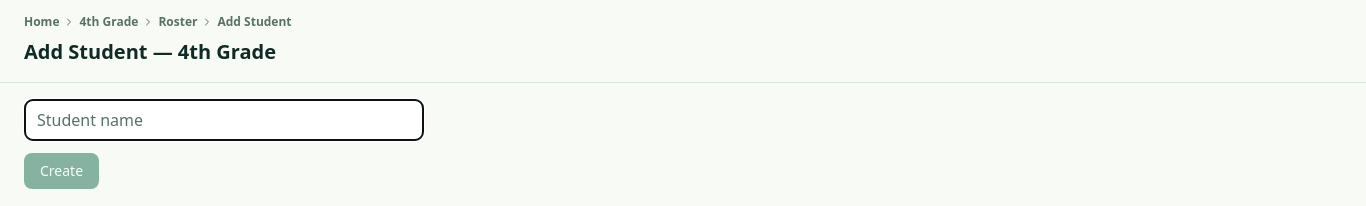
Test: CreateStudentPage › disables Create until a name is entered
The width and height of the screenshot is (1366, 206).
Expected: the button "Create" is disabled, [24,153,99,189]
Type "Alex" into the field with placeholder "Student name". click: [224, 120]
box: [24,99,424,141]
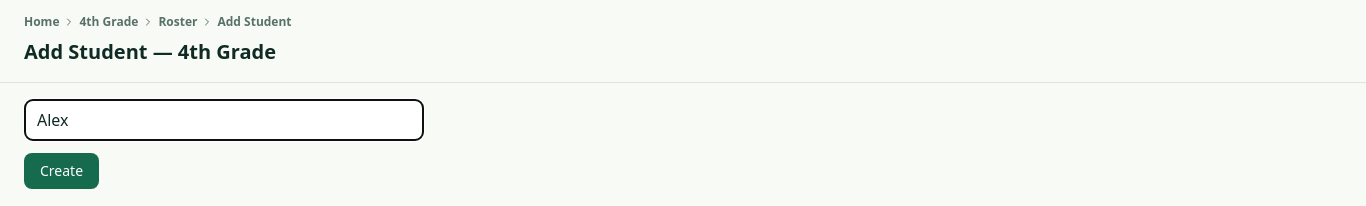
Now the button "Create" is enabled, box [24,153,99,189]
